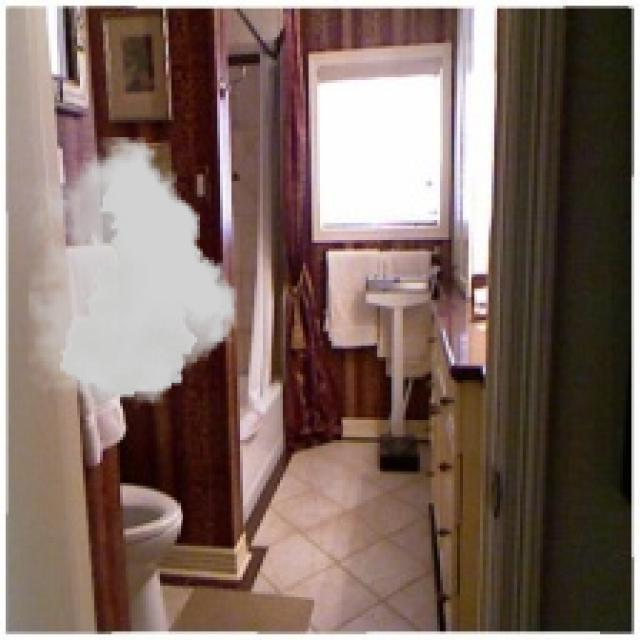Smoke: (29, 137, 238, 409)
